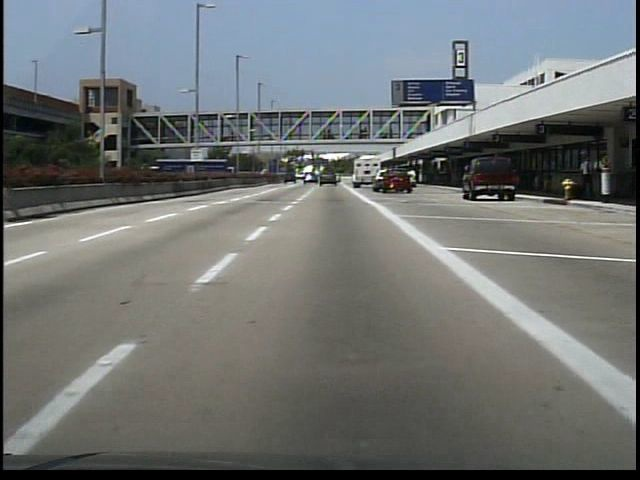person: (571, 152, 596, 201), (405, 169, 419, 191)
